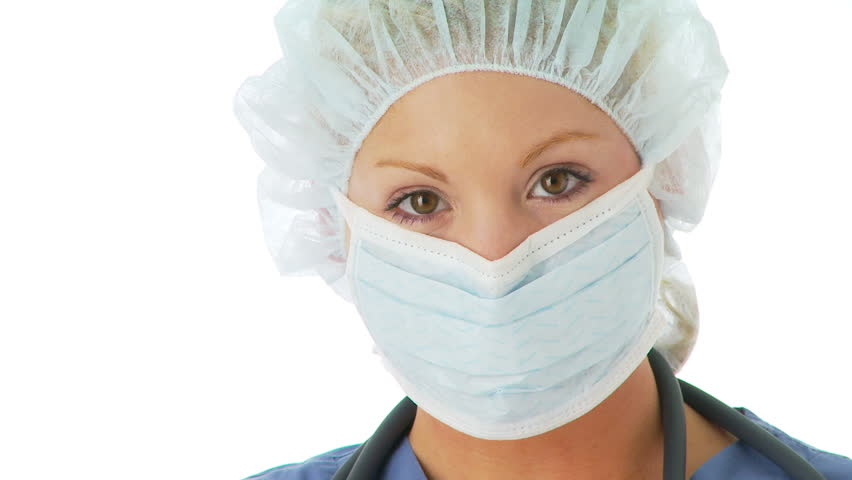mask: (354, 205, 658, 427)
